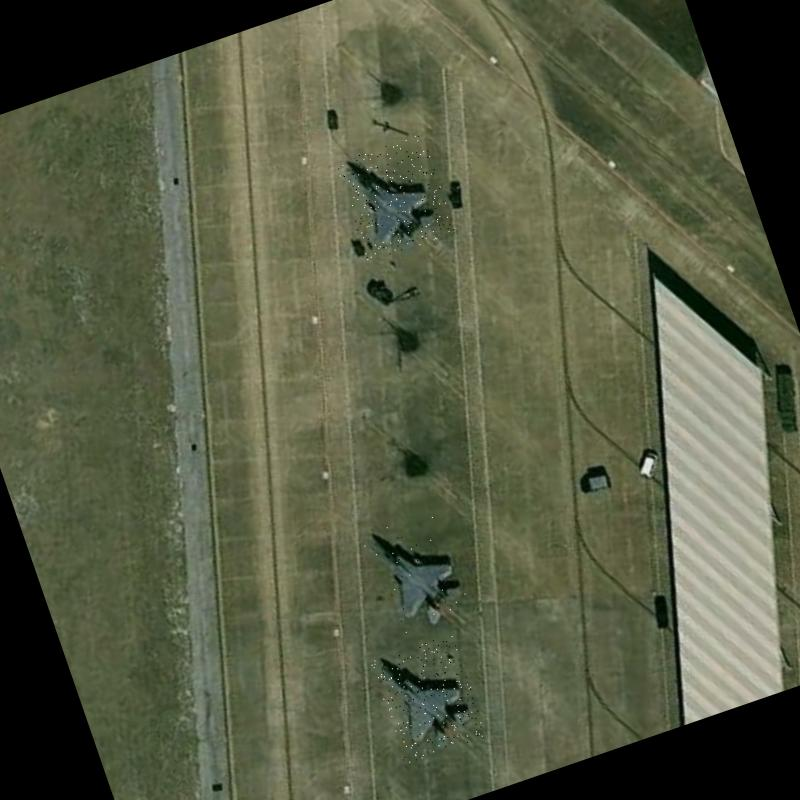A13: (356, 505, 478, 639), (334, 132, 457, 263), (369, 632, 488, 764)
